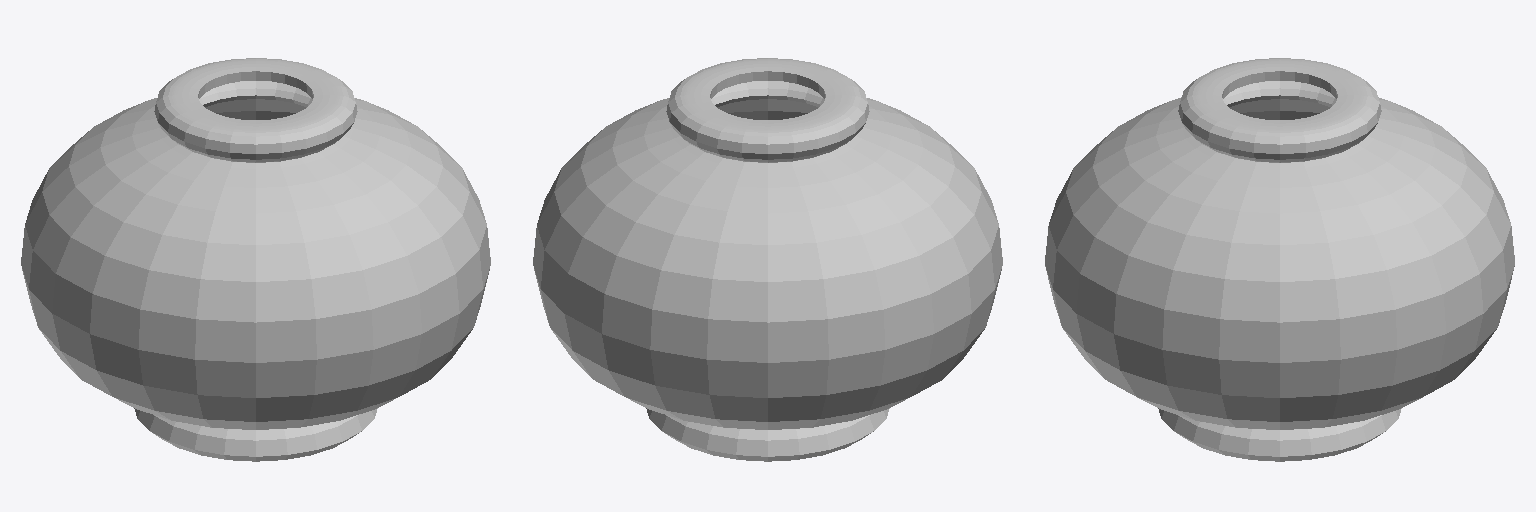
The model's file is GoldfishForMaya.obj.
3 views of the same model, side by side, from view 1: azimuth 30°, elevation 25°; view 2: azimuth 150°, elevation 25°; view 3: azimuth 270°, elevation 25° (orthographic).
Visible parts, largest first — view 1: Bowl; view 2: Bowl; view 3: Bowl.
Boxes of the visible parts, box(x1,y1,x2,y2) form: Bowl: box(21, 58, 490, 461); Bowl: box(533, 58, 1002, 461); Bowl: box(1045, 58, 1514, 461).
Bounding box in the file's own units: 89.23 × 67.27 × 89.23.